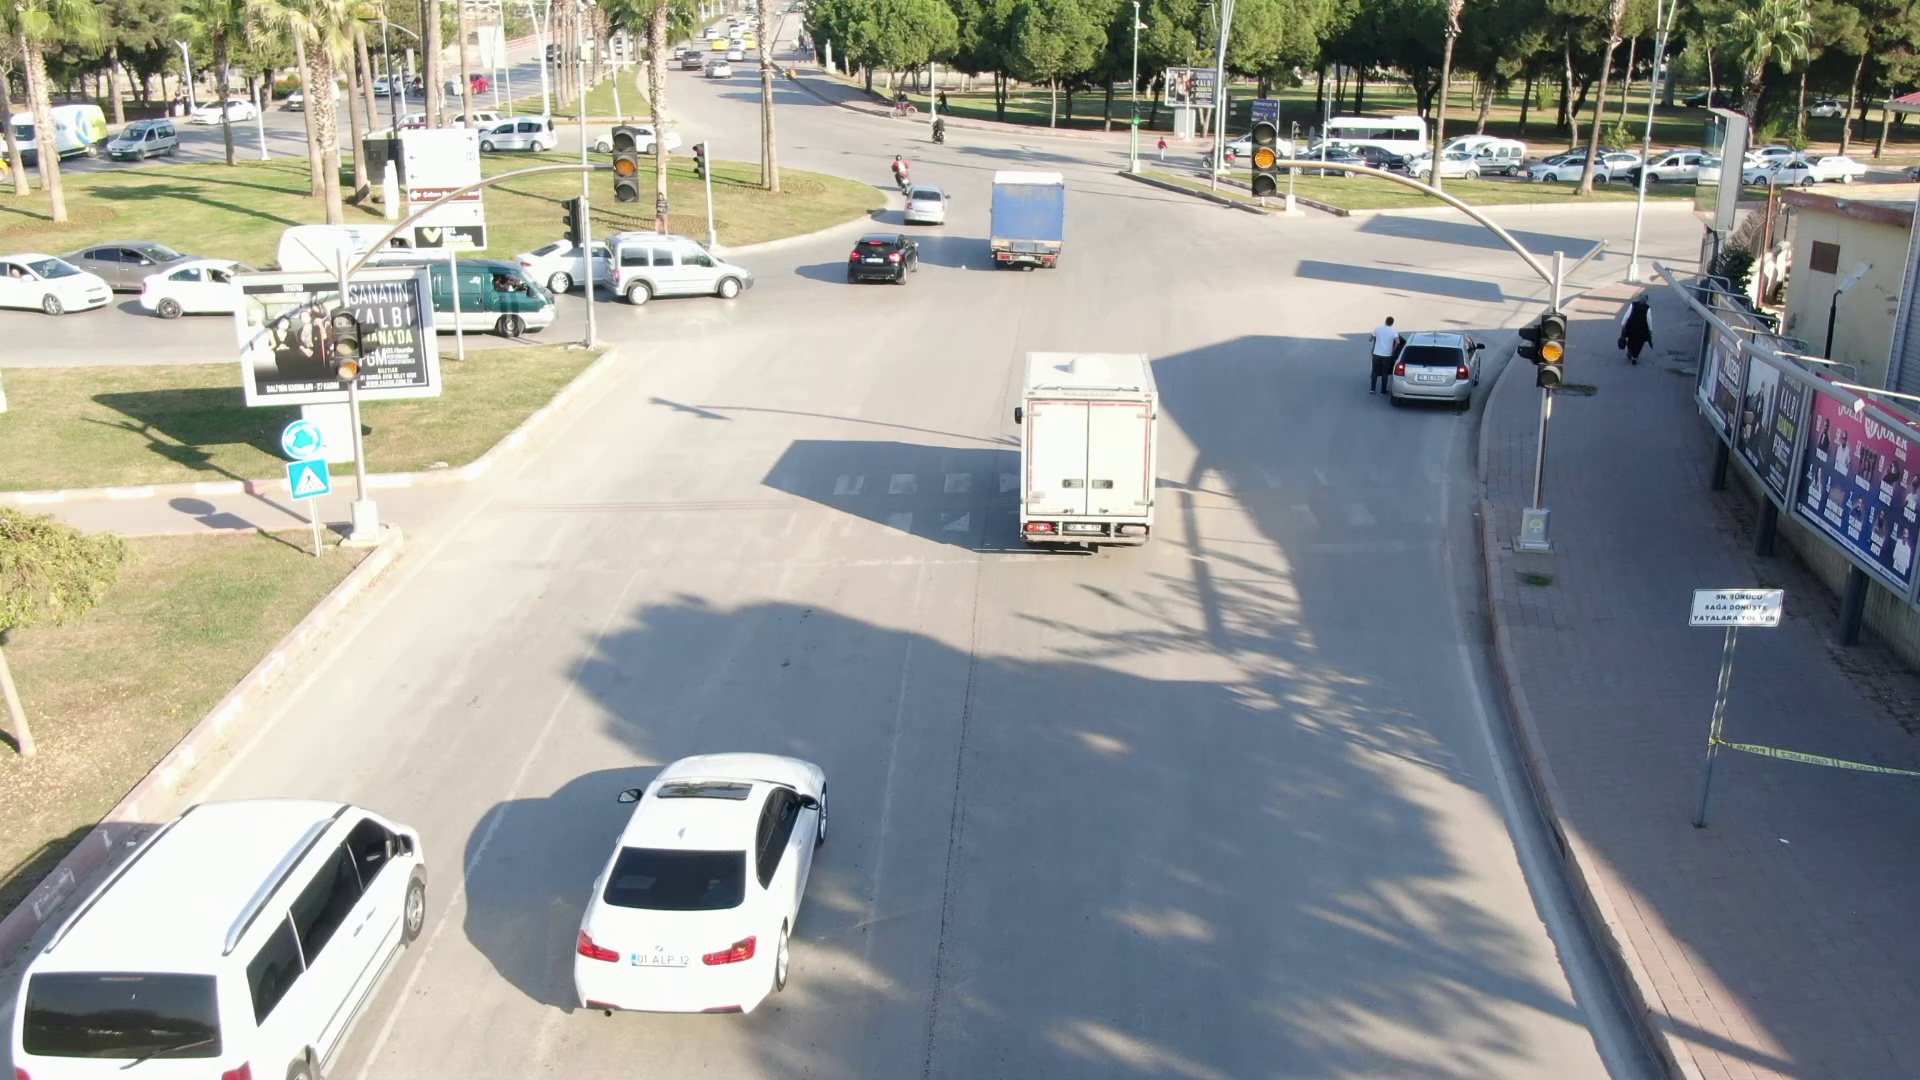car: (17, 784, 469, 1074), (564, 715, 862, 1013), (999, 332, 1191, 560), (976, 159, 1083, 279), (597, 228, 755, 309), (1, 240, 119, 324), (1395, 323, 1487, 415), (839, 223, 934, 287), (896, 181, 953, 227)
person: (1610, 283, 1662, 367), (1370, 311, 1404, 396)
